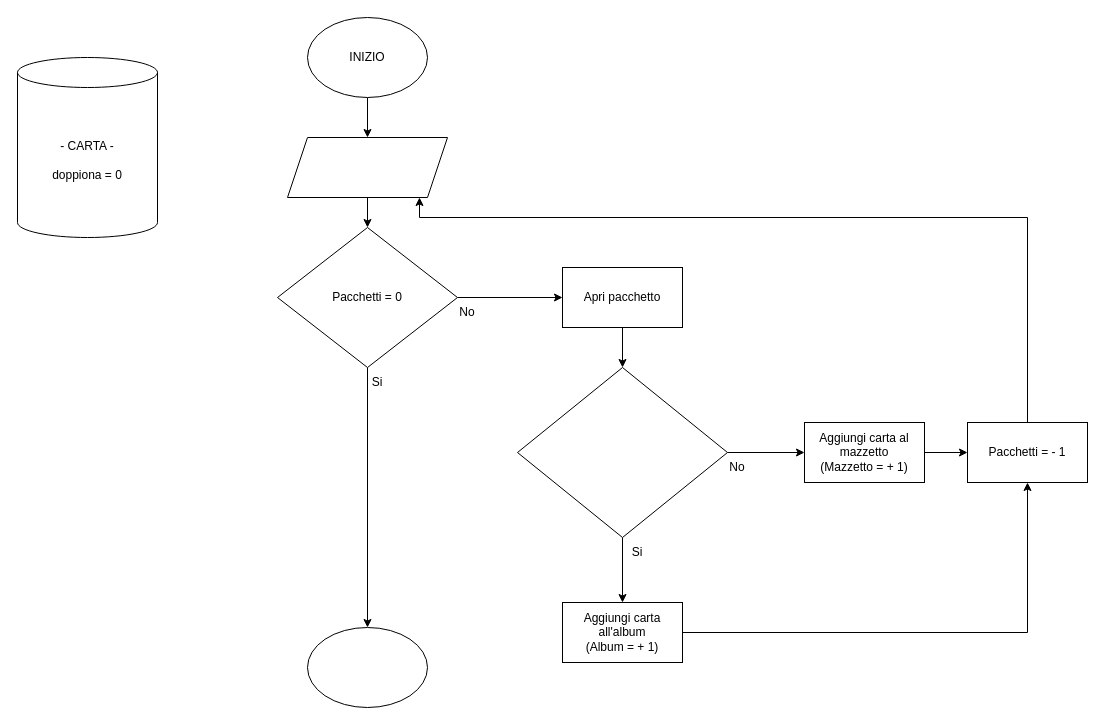
The diagram is 1105 pixels wide and 725 high, and some of its shapes have lost their labels. The shapes that lost their labels are listed below. From the top down, each one's centre as x and y in pixels, then its label:
At point (367, 167): "X - Album = n X - Mazzetto = n X - Pacchetti = n X- Carta".
At point (622, 452): "- Carta doppiona = 0".
At point (367, 667): "FINE".
